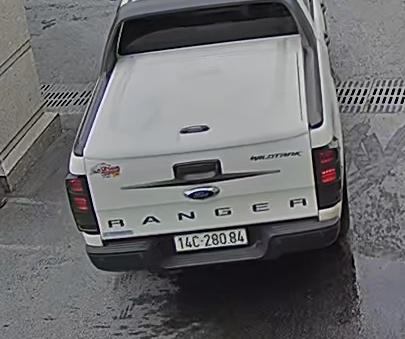vehicle plate: (171, 228, 251, 253)
